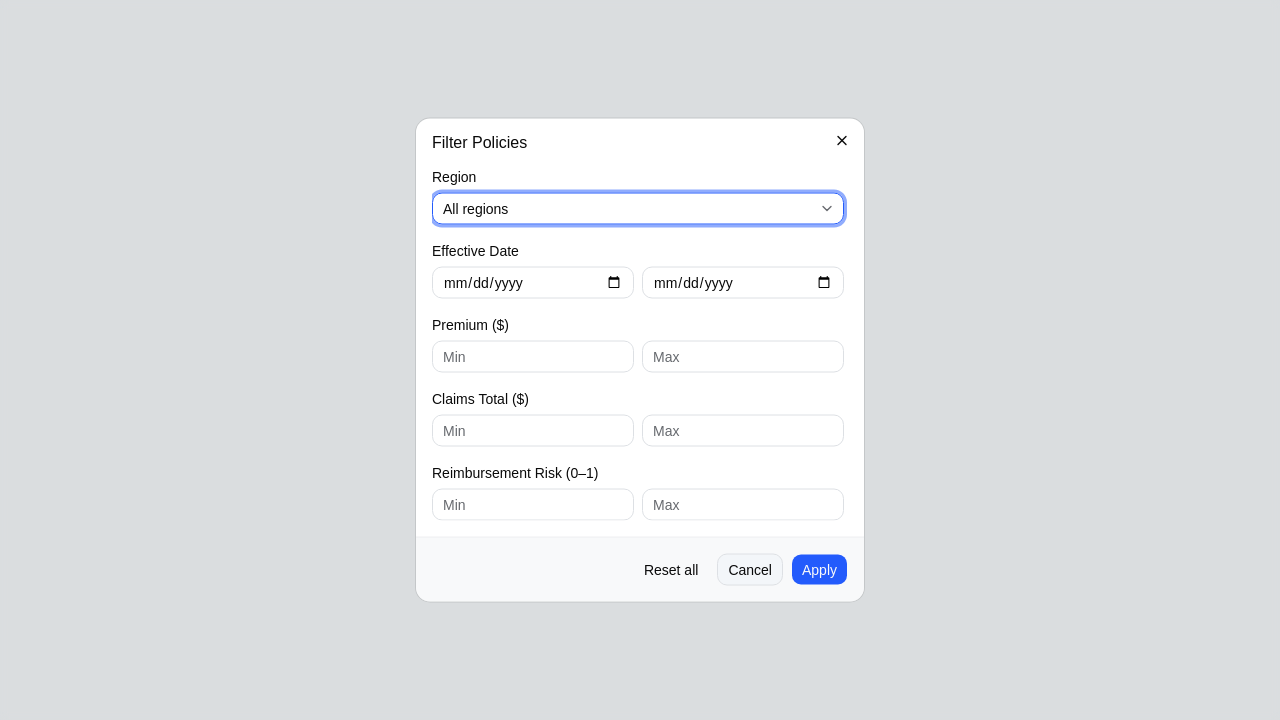
Test: FilterModal › shows validation error when risk min exceeds max
Step 1. Type "0.8" into the number field named "reimbursement risk minimum" → (533, 504), box [432, 488, 634, 520]
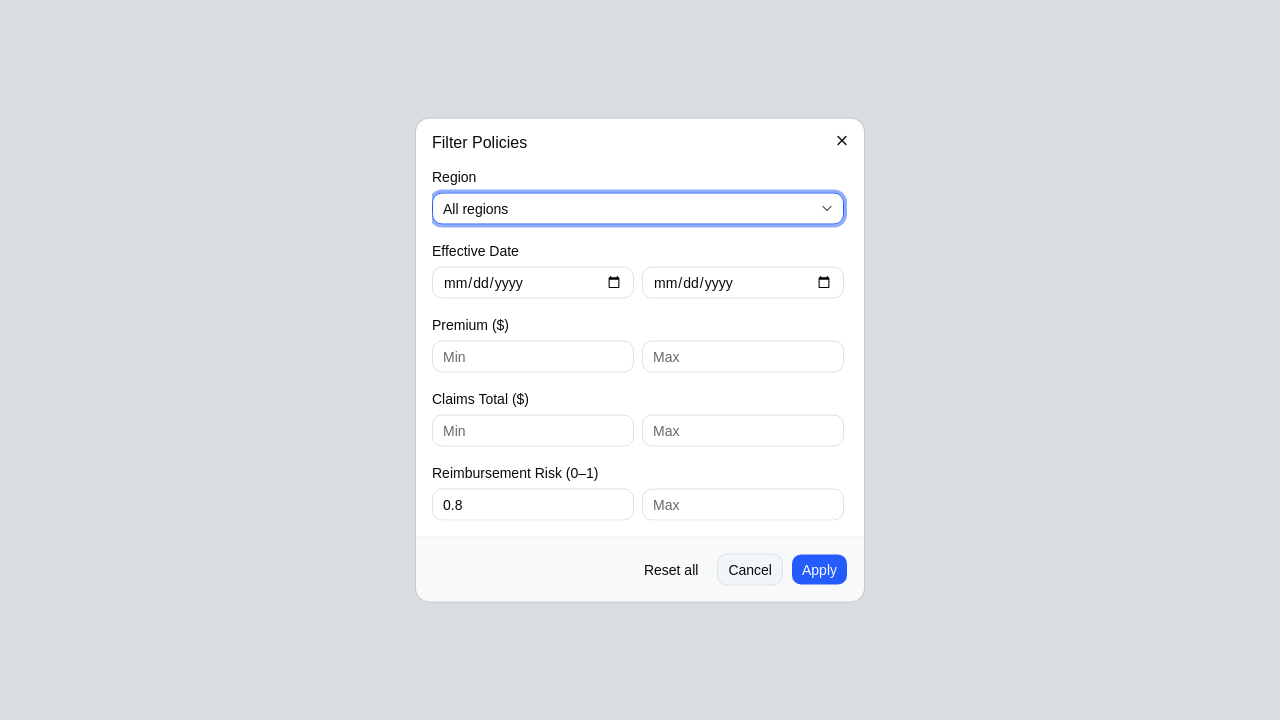
Step 2. Type "0.2" into the number field named "reimbursement risk maximum" → (743, 504), box [642, 488, 844, 520]
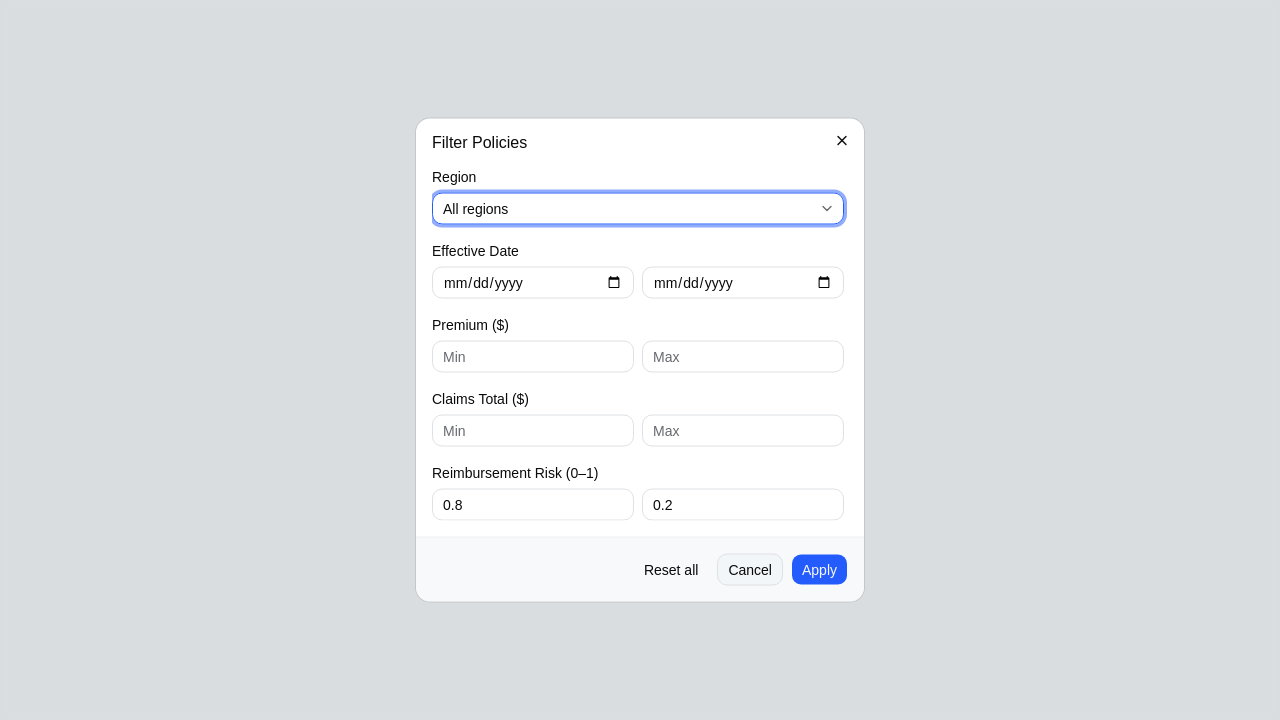
Step 3. Click the button "Apply" → (820, 570), box [791, 554, 848, 586]
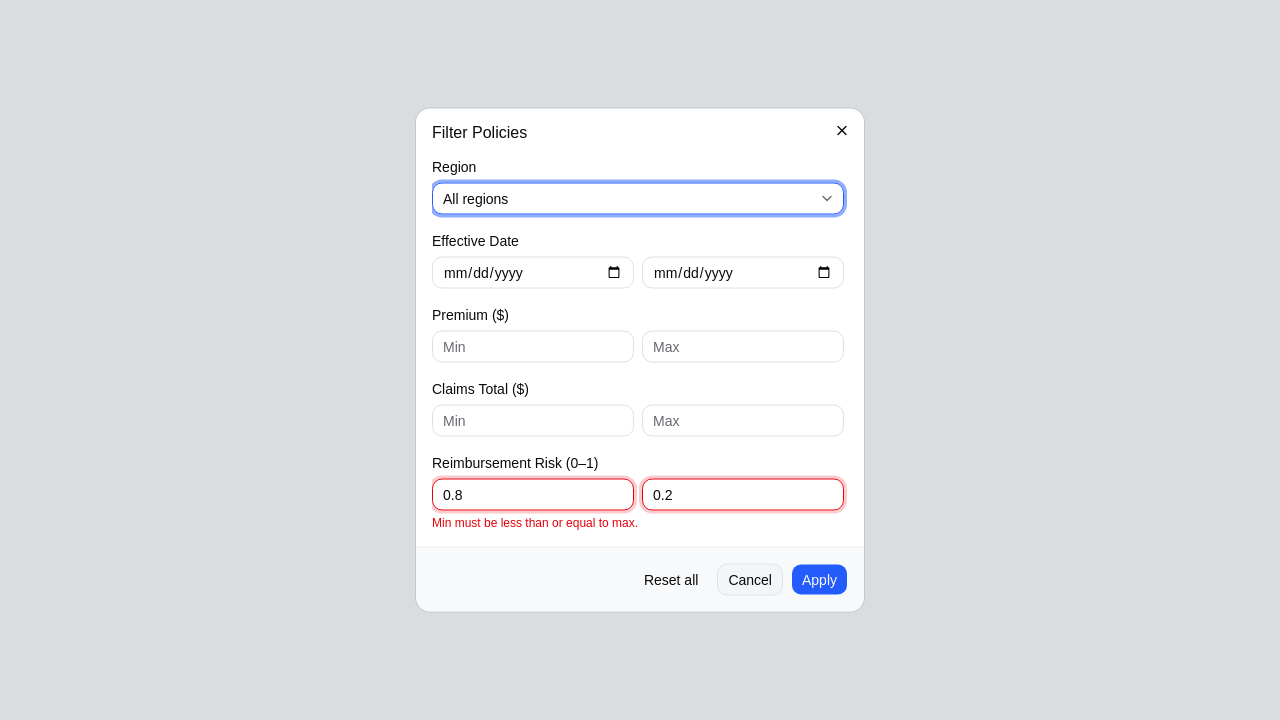
expect the message shows "Min must be less than or equal to max": met, box [432, 516, 638, 530]
